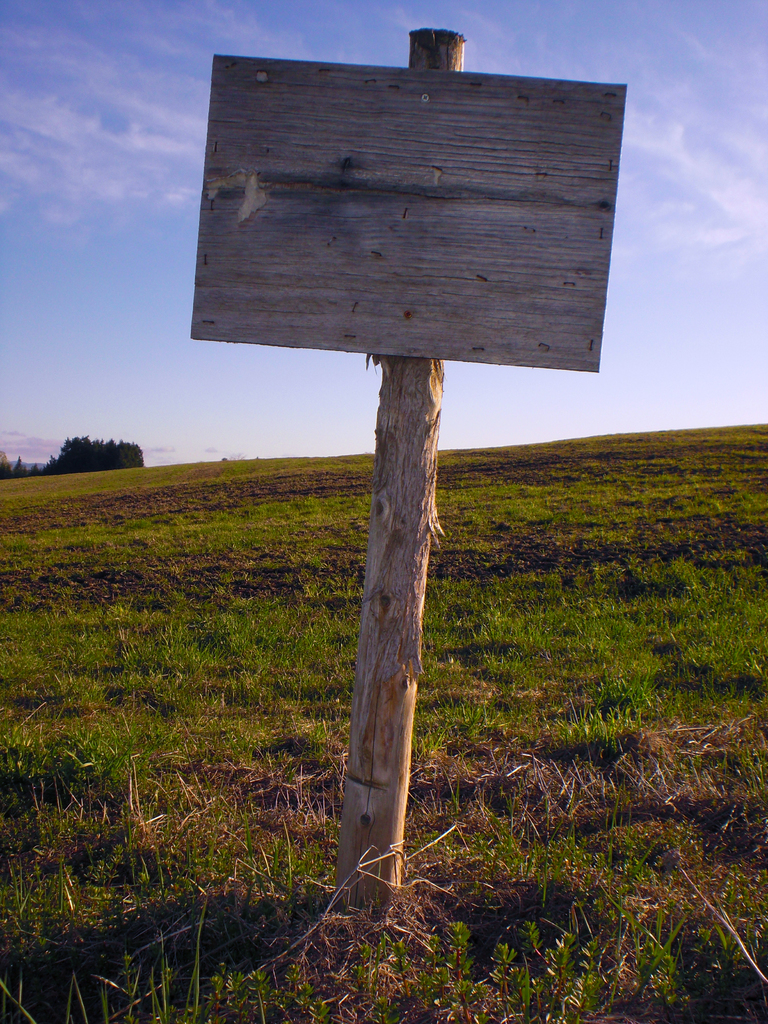Tree: (40, 433, 142, 474)
